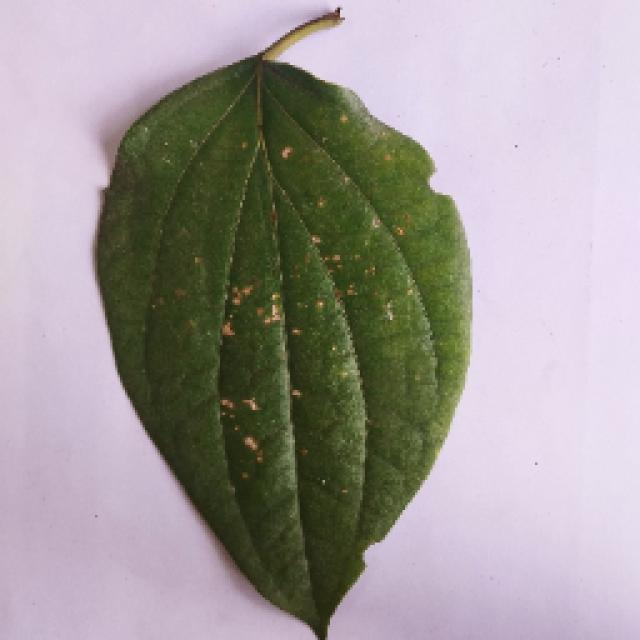pollu-disease: (78, 20, 482, 630)
